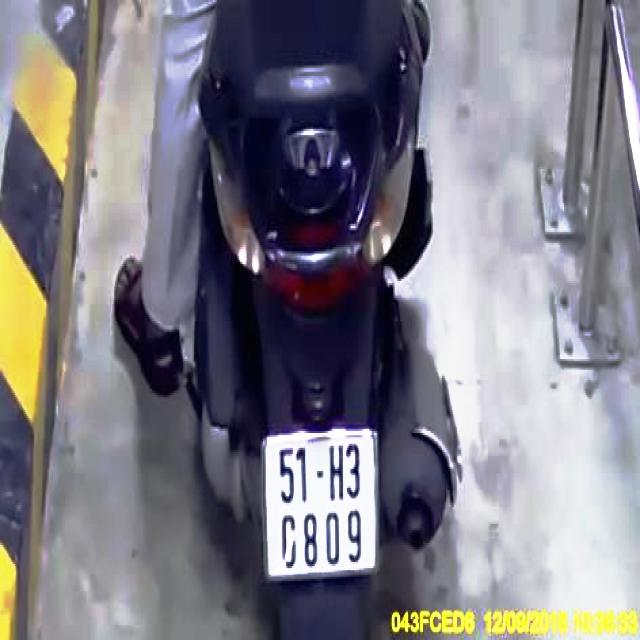license_plate: (267, 430, 377, 579)
